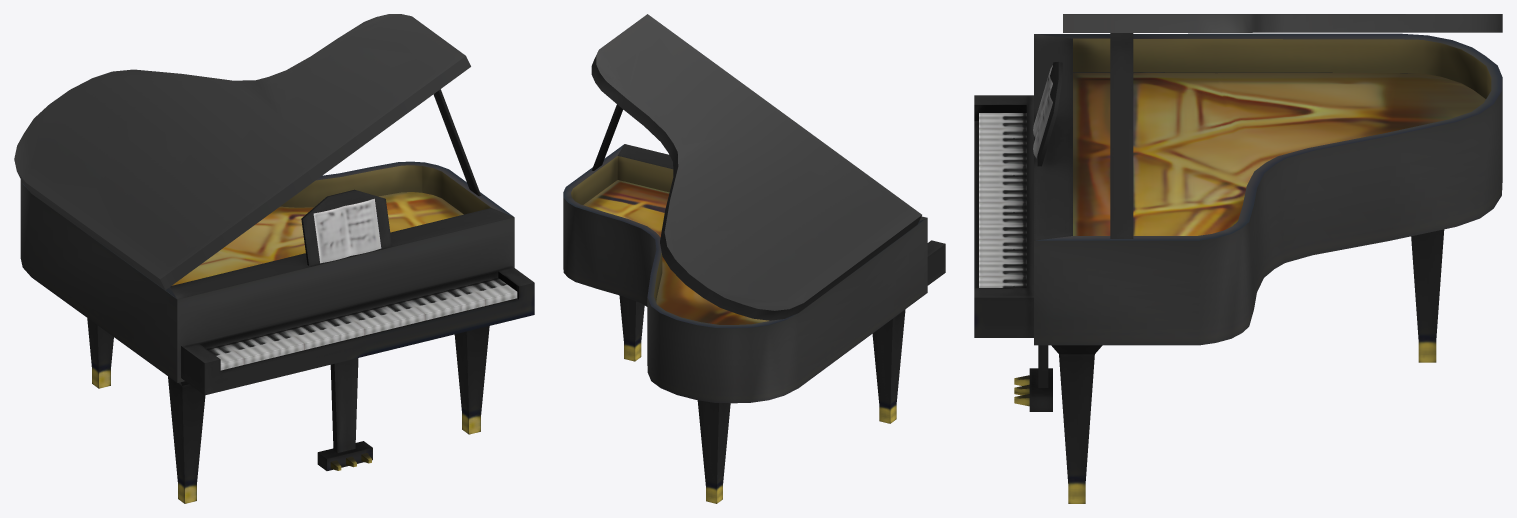
The model's file is Piano_HD.fbx.
3 views of the same model, side by side, from view 1: azimuth 30°, elevation 25°; view 2: azimuth 150°, elevation 25°; view 3: azimuth 270°, elevation 25° (orthographic). The views are drawn at different scales.
Parts seen in each view (by area): view 1: Piano; view 2: Piano; view 3: Piano.
Boxes of the visible parts, <box> form: Piano: <box>14,14,534,503</box>; Piano: <box>563,14,945,503</box>; Piano: <box>974,14,1502,503</box>.
Size of the model in its own units: 1.33 by 1.41 by 1.41.
